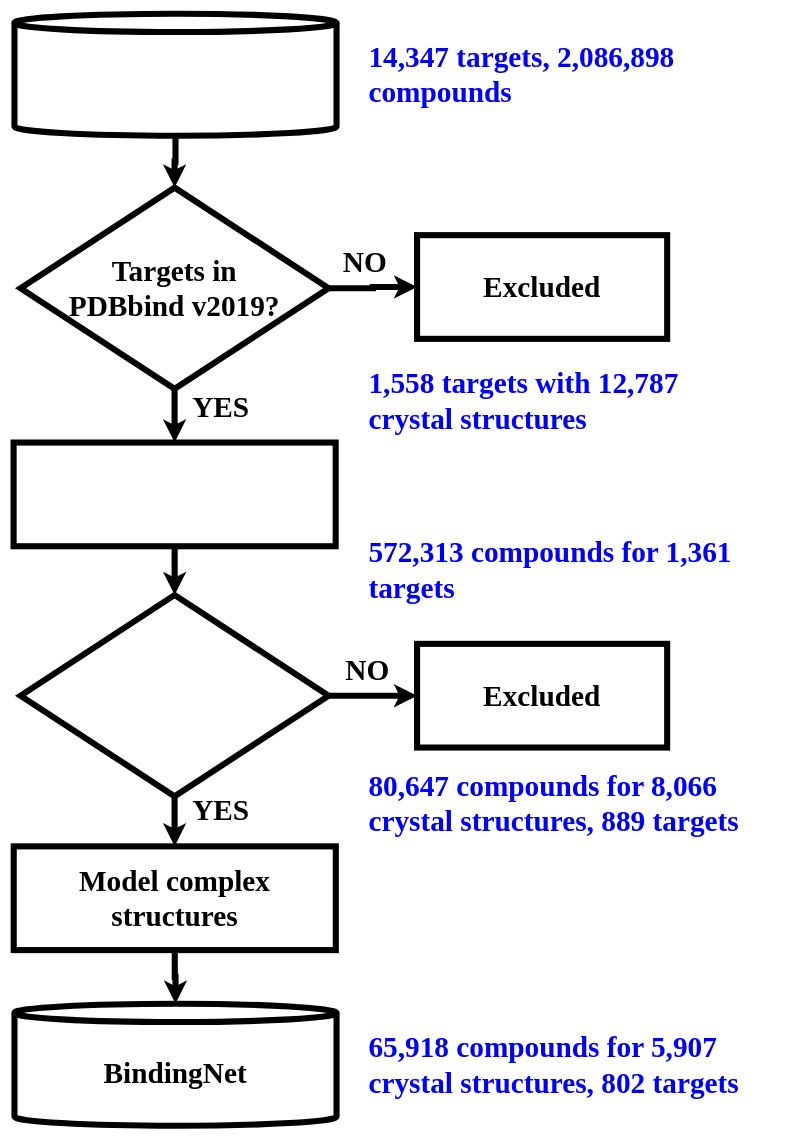
Image size: 805x1139. Some labels were removed from this diagram. Each missing label, with the box of its shape:
ChEMBL v28: (11, 10, 339, 138)
Compounds similar with crystal ligands in PDBbind v2019?: (17, 592, 331, 799)
Extract compounds with binding data: (10, 439, 338, 549)
